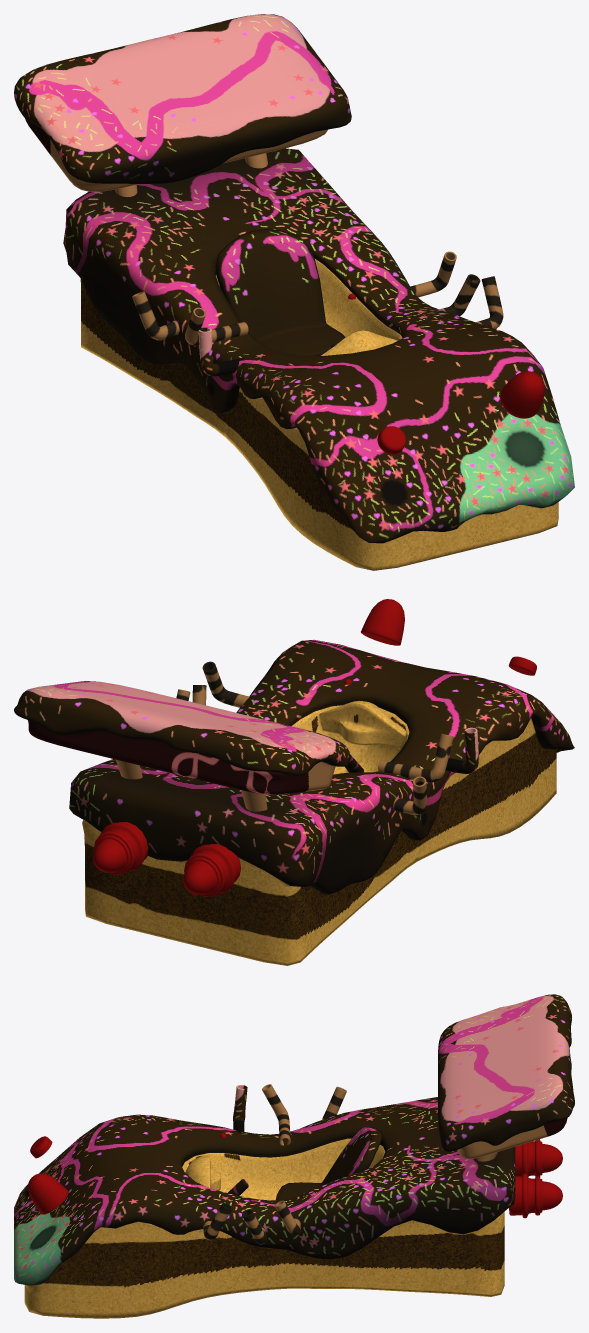
The model's file is sugarcar.fbx.
3 renders of one model, top to bottom at view 1: azimuth 30°, elevation 25°; view 2: azimuth 150°, elevation 25°; view 3: azimuth 270°, elevation 25°, orthographic. The views are drawn at different scales.
Visible parts, largest first — view 1: polySurface54, polySurface55, polySurface56, polySurface47, polySurface43, polySurface45, polySurface44, polySurface50, polySurface48; view 2: polySurface54, polySurface55, polySurface51, polySurface52, polySurface47, polySurface43, polySurface45, polySurface48, polySurface44; view 3: polySurface54, polySurface55, polySurface56, polySurface52, polySurface51, polySurface47, polySurface43, polySurface45, polySurface48, polySurface50, polySurface49.
Part boxes in pixels (box(x1,y1,x2,y2)): polySurface54: box(63, 148, 574, 570); polySurface55: box(14, 14, 351, 197); polySurface56: box(215, 229, 345, 355); polySurface47: box(500, 371, 545, 418); polySurface43: box(185, 307, 248, 345); polySurface45: box(198, 327, 243, 376); polySurface44: box(132, 291, 179, 340); polySurface50: box(409, 251, 456, 297); polySurface48: box(476, 276, 503, 328); polySurface54: box(69, 639, 574, 965); polySurface55: box(14, 681, 350, 811); polySurface51: box(183, 844, 241, 896); polySurface52: box(93, 822, 148, 874); polySurface47: box(361, 599, 404, 645); polySurface43: box(378, 733, 453, 782); polySurface45: box(445, 727, 478, 773); polySurface48: box(202, 661, 249, 707); polySurface44: box(393, 776, 426, 814); polySurface54: box(14, 1097, 515, 1318); polySurface55: box(438, 994, 574, 1161); polySurface56: box(276, 1127, 382, 1199); polySurface52: box(509, 1173, 562, 1218); polySurface51: box(515, 1139, 562, 1176); polySurface47: box(28, 1173, 68, 1214); polySurface43: box(262, 1084, 290, 1145); polySurface45: box(233, 1085, 247, 1132); polySurface48: box(203, 1203, 232, 1240); polySurface50: box(275, 1200, 300, 1235); polySurface49: box(242, 1209, 266, 1244).
Size of the model in its own units: 264 by 133 by 121.
4 materials, 4 textured.
